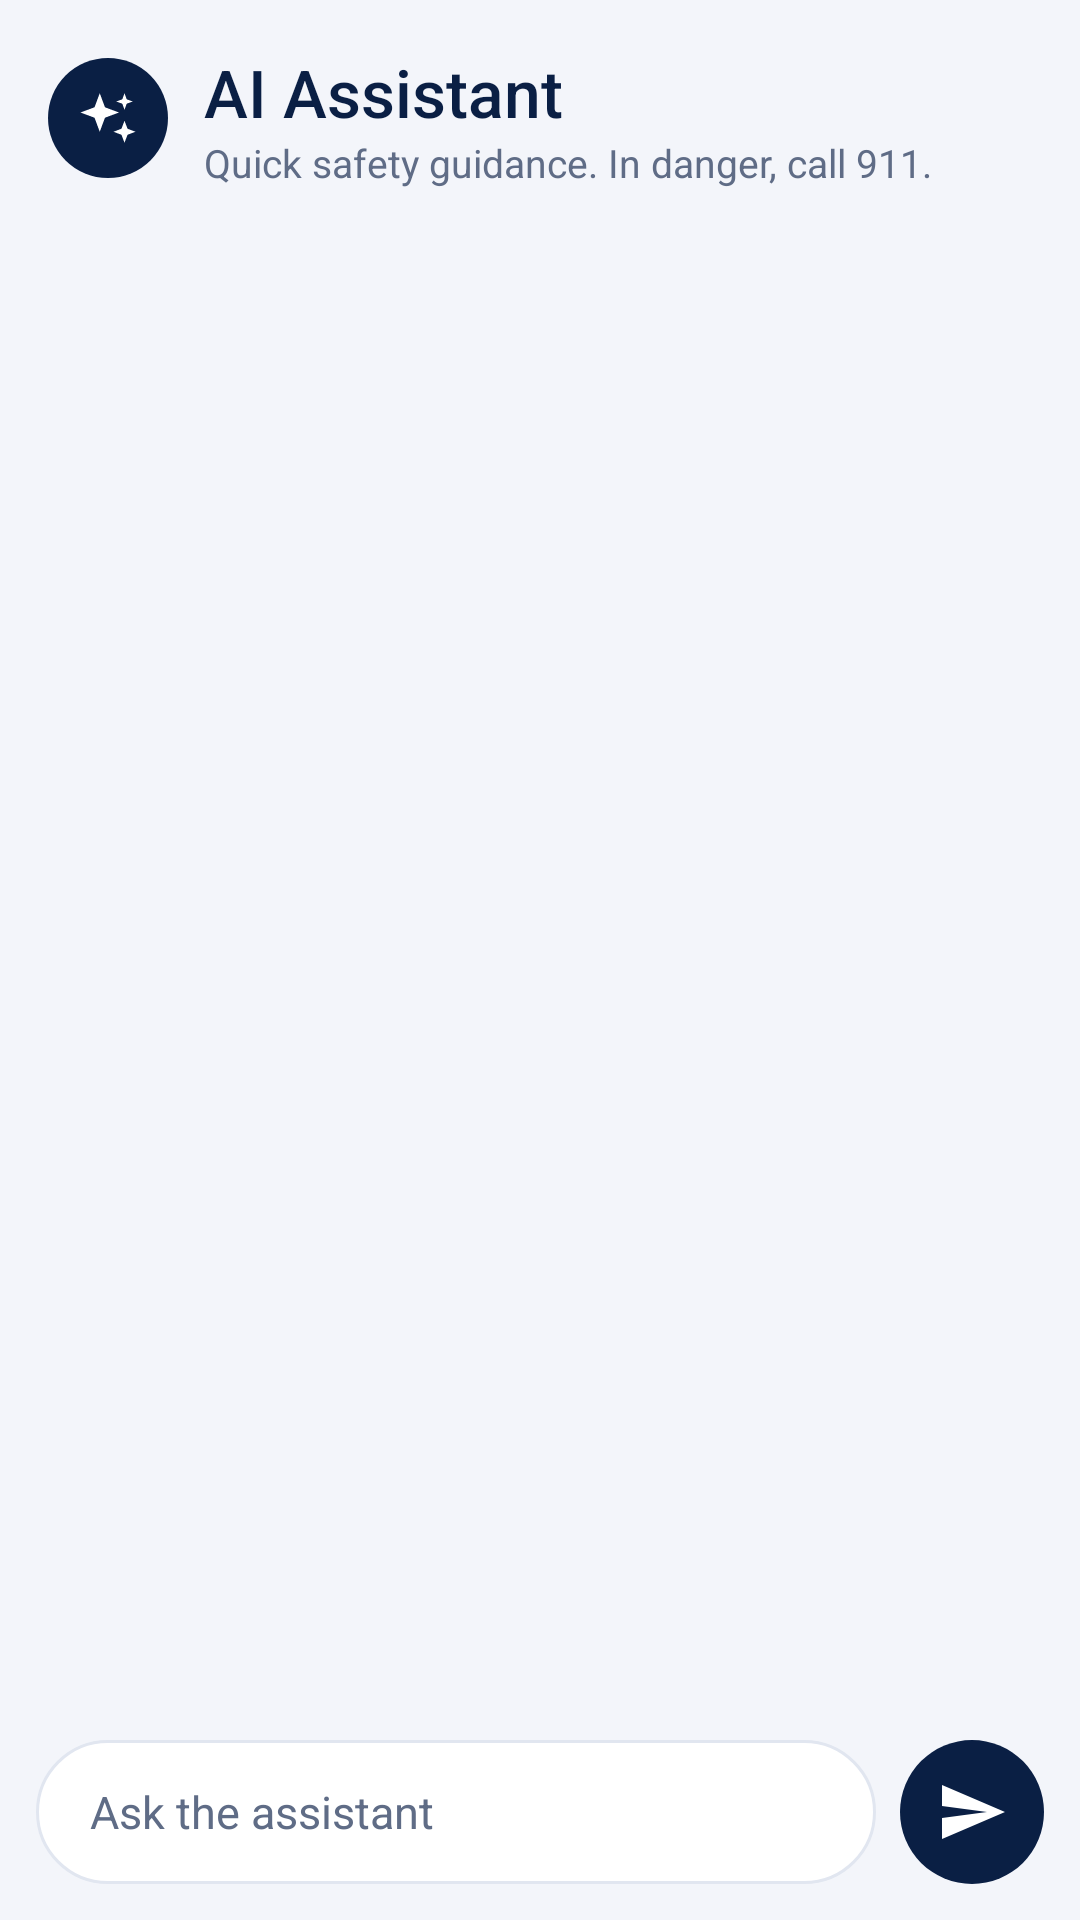

Locate icon controls on the screen. Image size 1080*1920, boxes as {"x1": x1, "y1": y1, "x2": x2, "y2": y2}.
Send: {"x1": 900, "y1": 1740, "x2": 1044, "y2": 1884}
